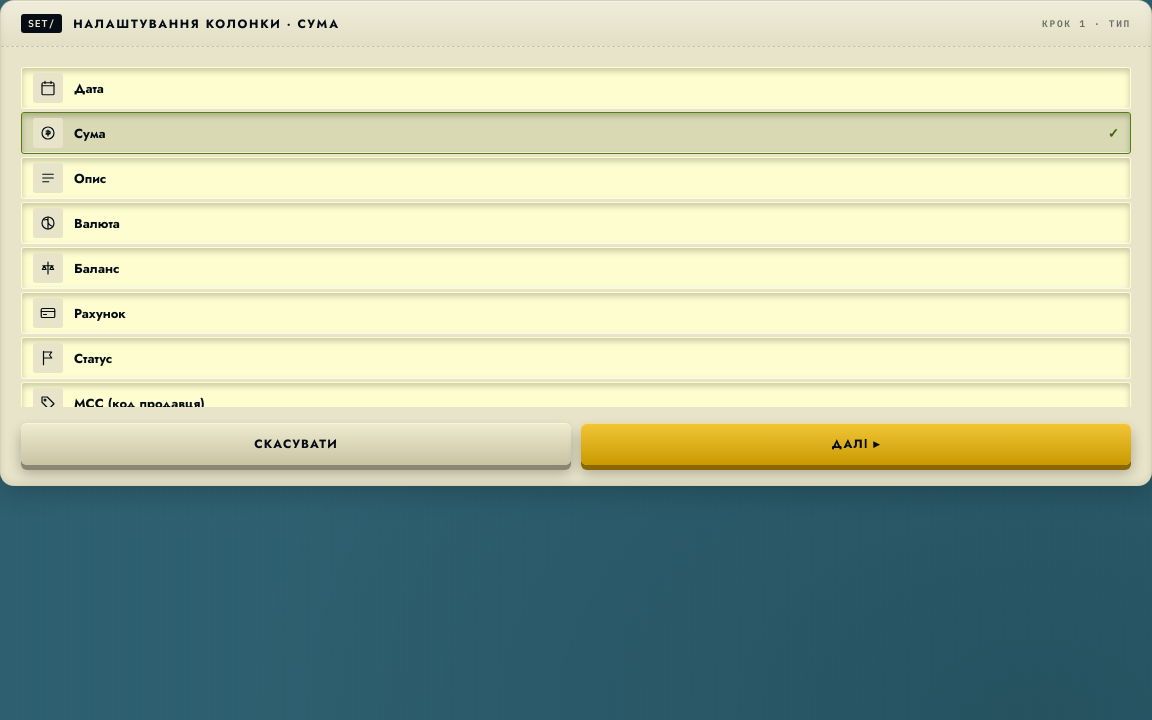
ConfigWizard (2-step «More» configurator) › step 1 → pick a type → Next advances to step 2
Note: pick "description" (no params) and advance
Step 1. Click the radio button "Опис" → {"x": 90, "y": 178}, box [21,157,1131,199]
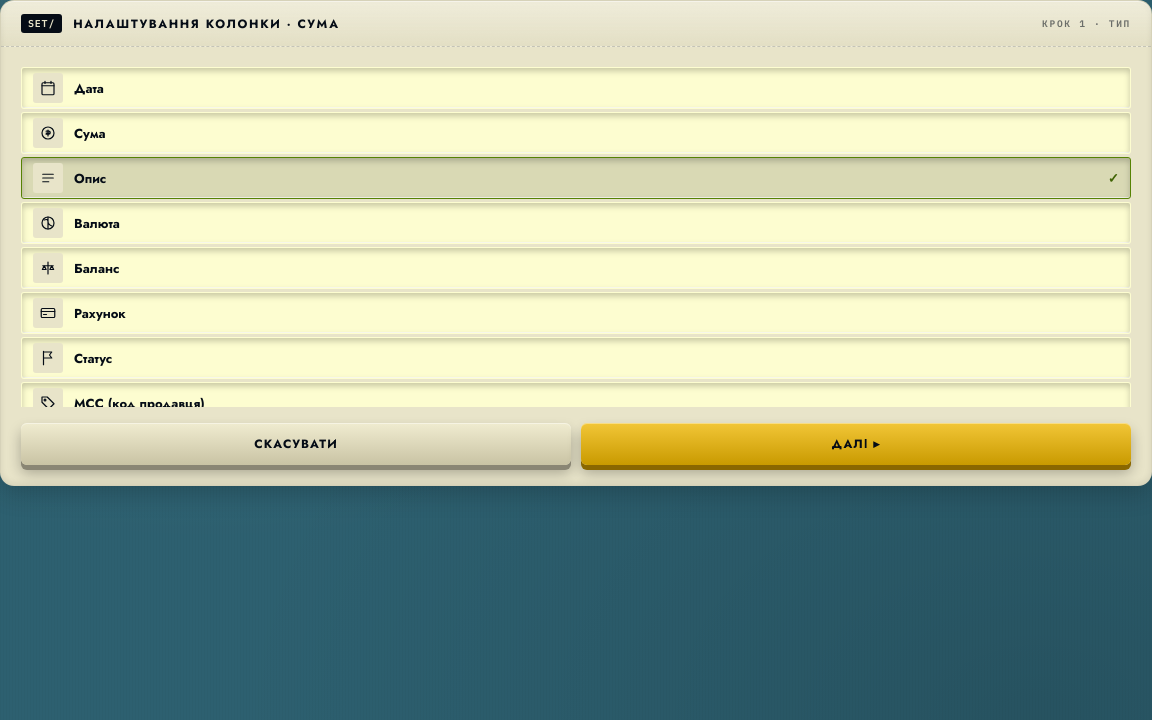
Step 2. Click the button "Далі ▸" → {"x": 856, "y": 444}, box [581,423,1131,465]
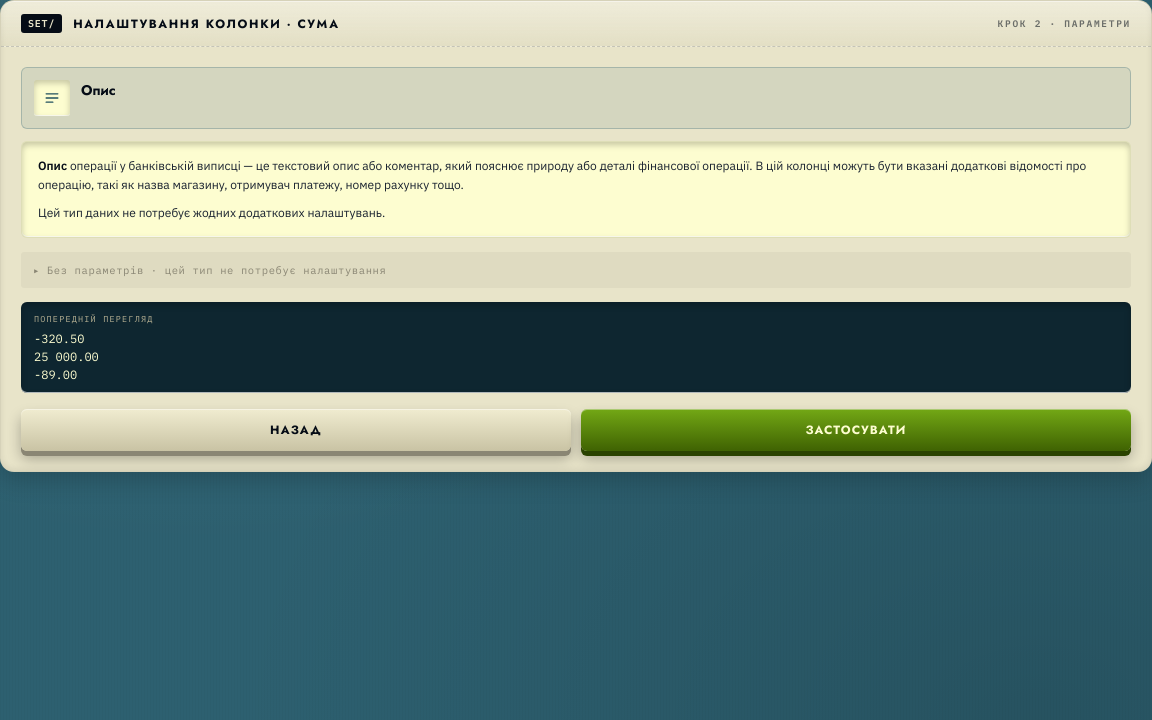
Now the element with class "cfg-config" is shown, box [21,67,1131,393]
Now the text "▸ Без параметрів · цей тип не потребує налаштування" is shown, box [21,252,1131,288]
